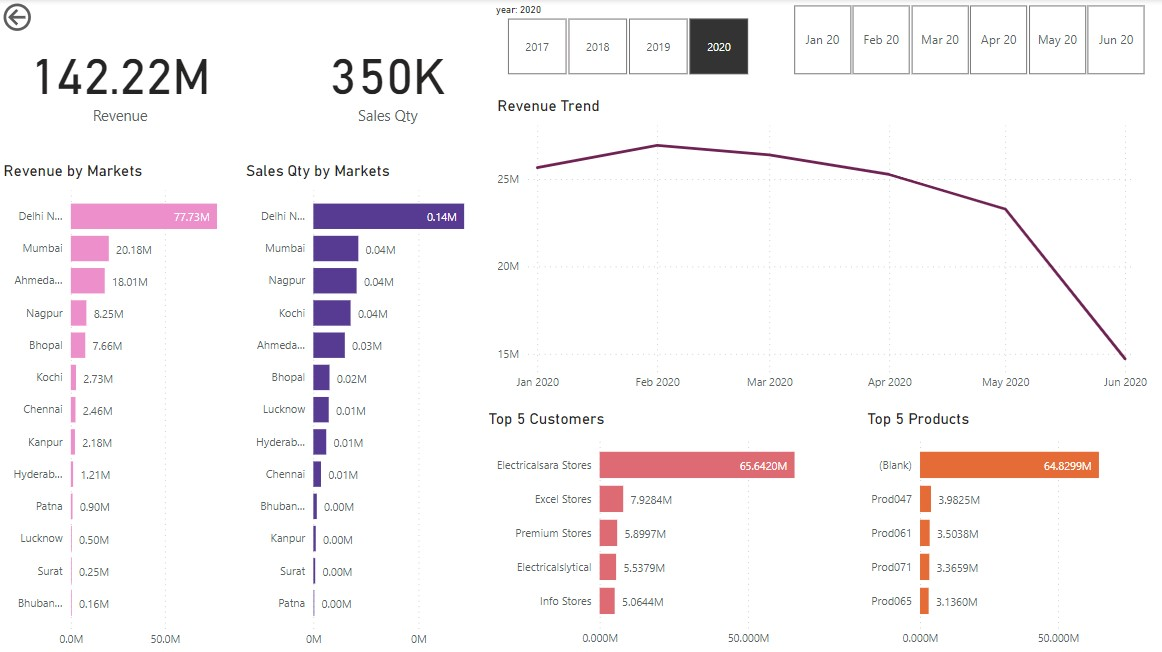

Layout of this report page (visuals, bound fields, positions):
{"tool":"powerbi","page":{"name":"Page 1","canvas":[1280,720],"ordinal":0},"visuals":[{"type":"card","fields":{"Values":["Base Measure.Revenue"]},"box":[0,0,266,178.2],"z":0},{"type":"card","fields":{"Values":["Base Measure.Sales Qty"]},"box":[266,0,320.8,178.2],"z":1000},{"type":"actionButton","box":[0,0,100,40],"z":2000},{"type":"barChart","title":"Revenue by Markets","fields":{"Y":["Base Measure.Revenue"],"Category":["sales markets.markets_name"]},"box":[0,178.2,266,541.6],"z":3000},{"type":"barChart","title":"Sales Qty by Markets","fields":{"Y":["Base Measure.Sales Qty"],"Category":["sales markets.markets_name"]},"box":[266,178.2,266,541.6],"z":4000},{"type":"slicer","fields":{"Values":["sales date.year"]},"box":[532,0,314,89.1],"z":5000},{"type":"slicer","fields":{"Values":["sales date.cy_date"]},"box":[845.9,0,434.6,89.1],"z":6000},{"type":"barChart","title":"Top 5 Customers","fields":{"Y":["Base Measure.Revenue"],"Category":["sales customers.custmer_name"]},"box":[532,449.7,415.4,270.1],"z":7000},{"type":"barChart","title":"Top 5 Products","fields":{"Y":["Base Measure.Revenue"],"Category":["sales products.product_code"]},"box":[947.4,449.7,333.2,270.1],"z":8000},{"type":"lineChart","title":"Revenue Trend","fields":{"Y":["Base Measure.Revenue"],"Category":["sales date.cy_date.Variation.Date Hierarchy.Year","sales date.cy_date.Variation.Date Hierarchy.Quarter","sales date.cy_date.Variation.Date Hierarchy.Month","sales date.cy_date.Variation.Date Hierarchy.Day"]},"box":[541.6,106.9,722.5,331.8],"z":9000}]}

Visuals, with their boxes in screenshot pixels (x1, y1, x2, y2), scaled from the page's 1280x720 canvas onto the 1162x652 screenshot:
card - Base Measure.Revenue: detection(0, 0, 241, 161)
card - Base Measure.Sales Qty: detection(241, 0, 533, 161)
actionButton: detection(0, 0, 91, 36)
"Revenue by Markets" barChart: detection(0, 161, 241, 651)
"Sales Qty by Markets" barChart: detection(241, 161, 483, 651)
slicer - sales date.year: detection(483, 0, 768, 81)
slicer - sales date.cy_date: detection(768, 0, 1161, 81)
"Top 5 Customers" barChart: detection(483, 407, 860, 651)
"Top 5 Products" barChart: detection(860, 407, 1161, 651)
"Revenue Trend" lineChart: detection(492, 97, 1148, 397)
